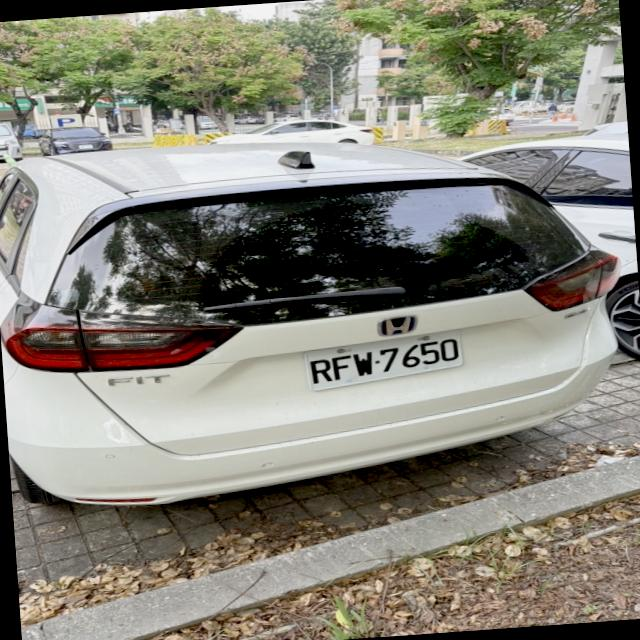license plate: (304, 330, 462, 390)
